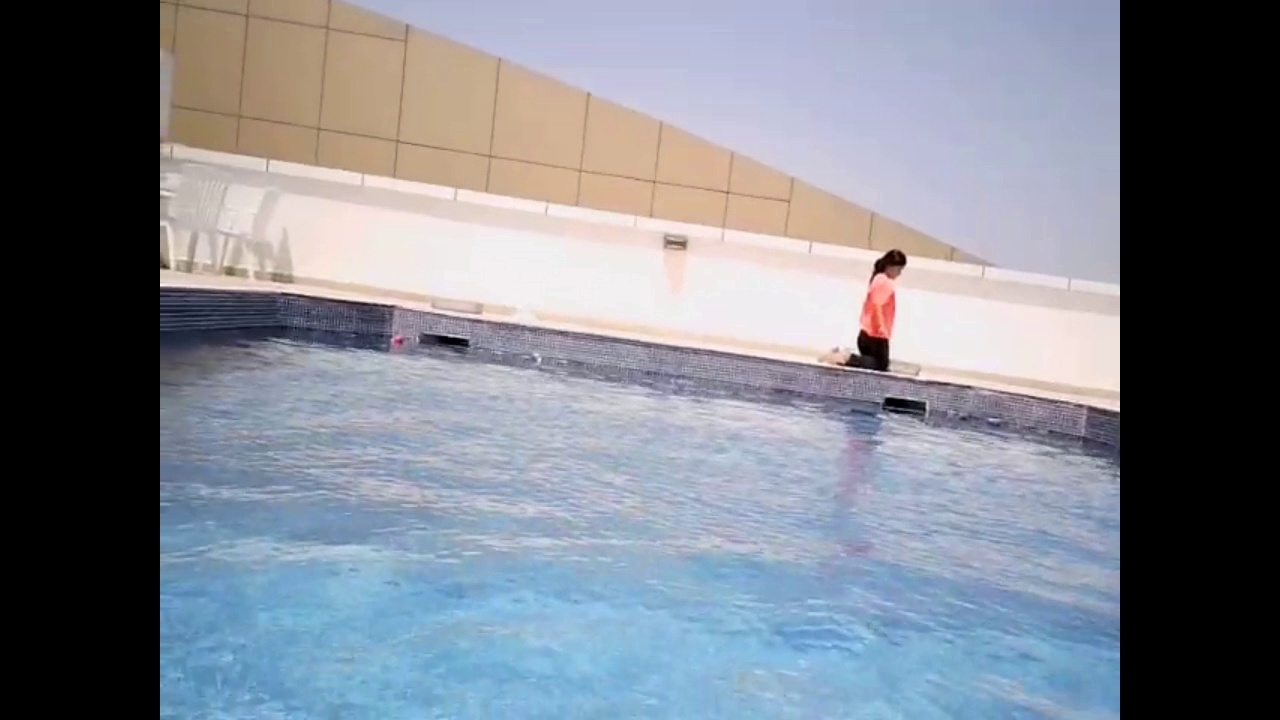debris: (944, 406, 971, 425), (522, 349, 545, 370), (386, 330, 407, 351), (984, 412, 1006, 431), (484, 342, 504, 361), (550, 356, 574, 370)
